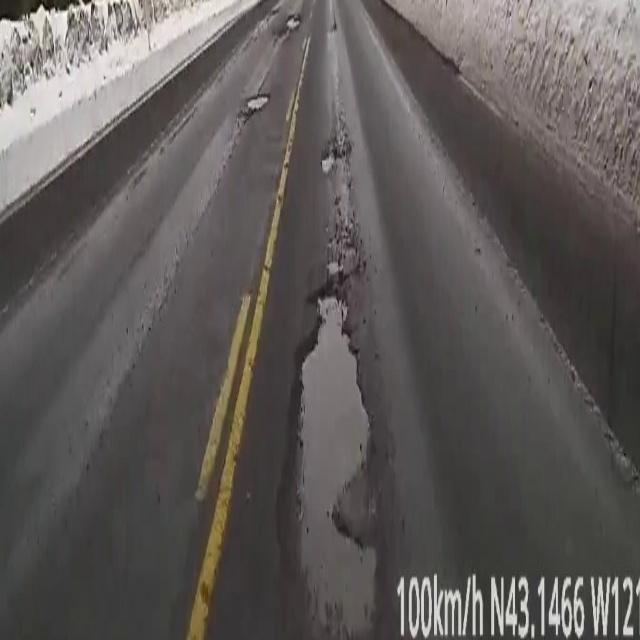pothole: (300, 387, 375, 556), (322, 117, 358, 274), (242, 92, 268, 116), (286, 13, 300, 32)
